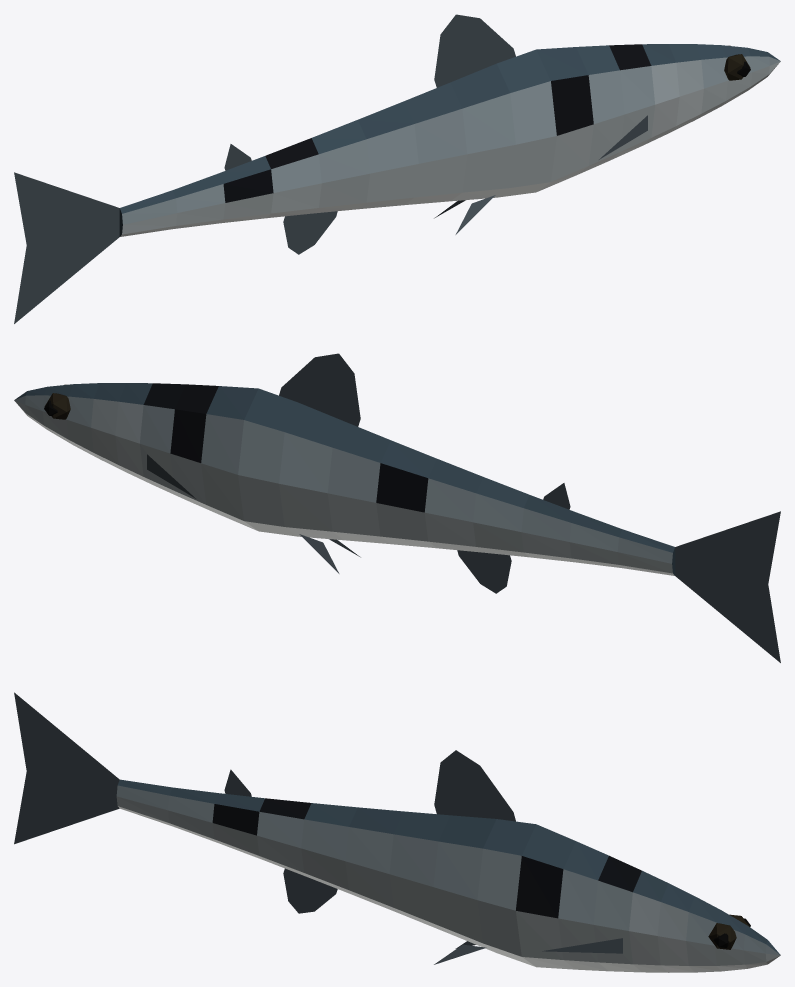
Rendered from atlantic-salmon.glb.
3 views of the same model, one above another, from view 1: azimuth 30°, elevation 25°; view 2: azimuth 150°, elevation 25°; view 3: azimuth 330°, elevation 25° (orthographic).
Visible parts, largest first — view 1: atlantic-salmon; view 2: atlantic-salmon; view 3: atlantic-salmon.
Boxes of the visible parts, x1,y1,x2,y2 form: atlantic-salmon: (14,14,780,323); atlantic-salmon: (14,353,780,662); atlantic-salmon: (14,692,780,972).
Size of the model in its own units: 1.16 by 0.3035 by 0.15.
